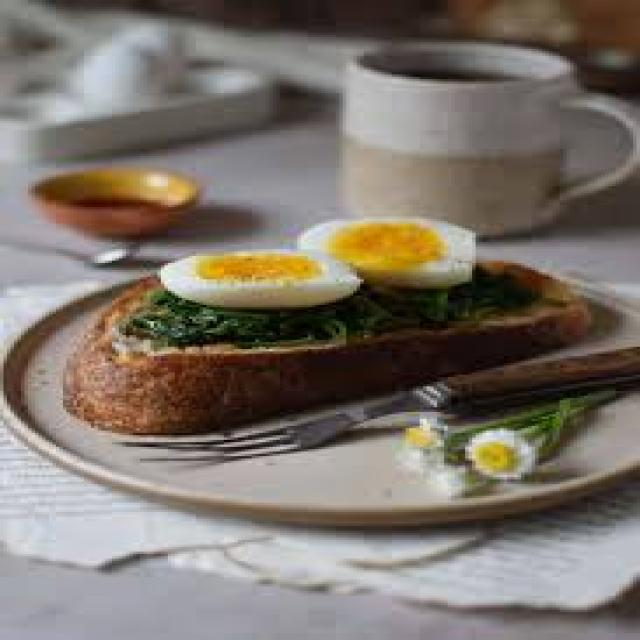boiled egg: (155, 198, 539, 318)
